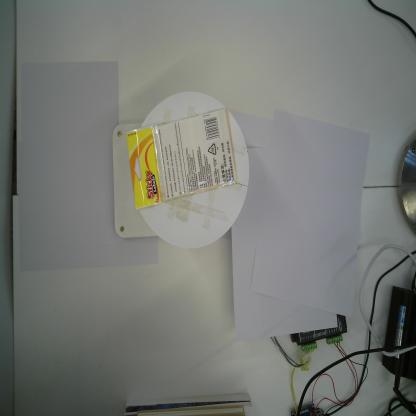Stationery: (126, 102, 238, 214)
